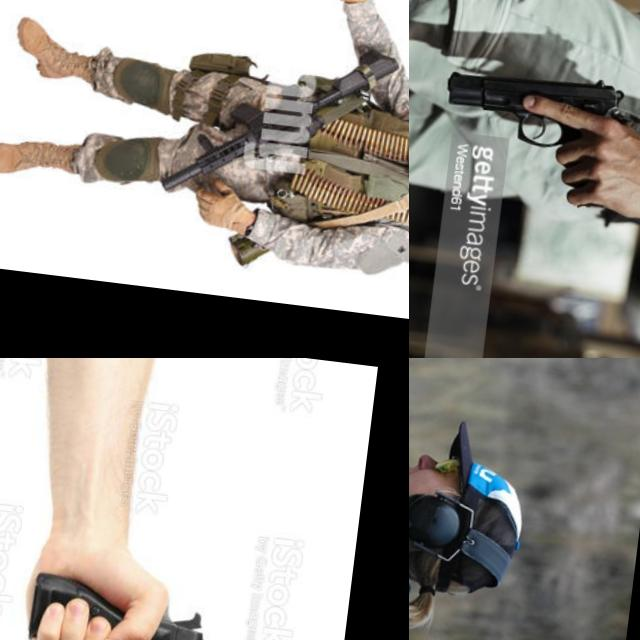handgun: (437, 59, 638, 160), (0, 570, 215, 640), (423, 358, 497, 427), (313, 0, 376, 44)
